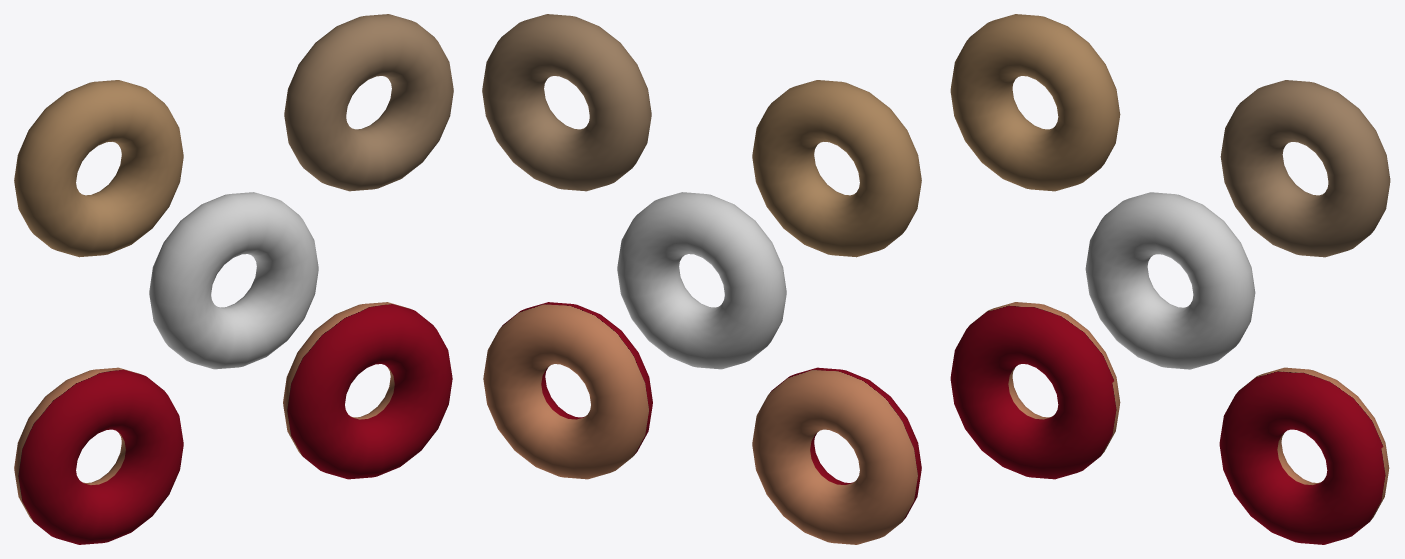
File: Donuts.fbx
3 views of the same model, side by side, from view 1: azimuth 30°, elevation 25°; view 2: azimuth 150°, elevation 25°; view 3: azimuth 330°, elevation 25° (orthographic).
Visible parts, largest first — view 1: pTorus6; view 2: pTorus6; view 3: pTorus6.
Boxes of the visible parts, bbox=[...] form: pTorus6: bbox=[14, 14, 453, 544]; pTorus6: bbox=[482, 14, 921, 544]; pTorus6: bbox=[950, 14, 1390, 544].
Bounding box in the file's own units: 8.01 × 8.1 × 1.
